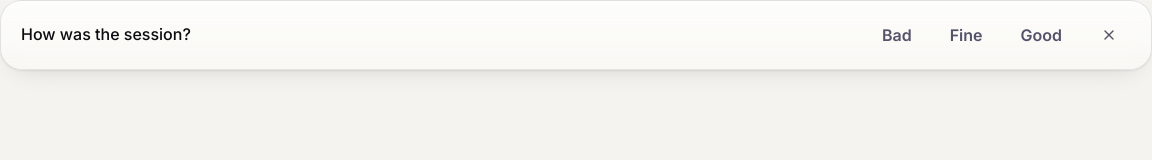
Test case: answering › the first answer brings the second question: how is the report
The image size is (1152, 160).
What coordinates should you click on to do the following:
click the button "Good"
I would click on:
 (1041, 35)
Its box is [1004, 13, 1079, 57].
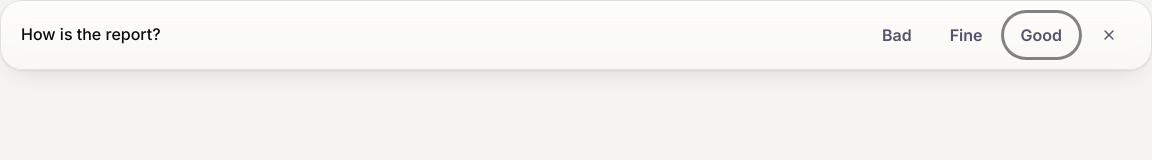
Check: the button "Fine" is shown, box [933, 13, 1000, 57]
Check: the text "How is the report?" is shown, box [21, 22, 161, 48]
Check: the text "How was the session?" is gone
